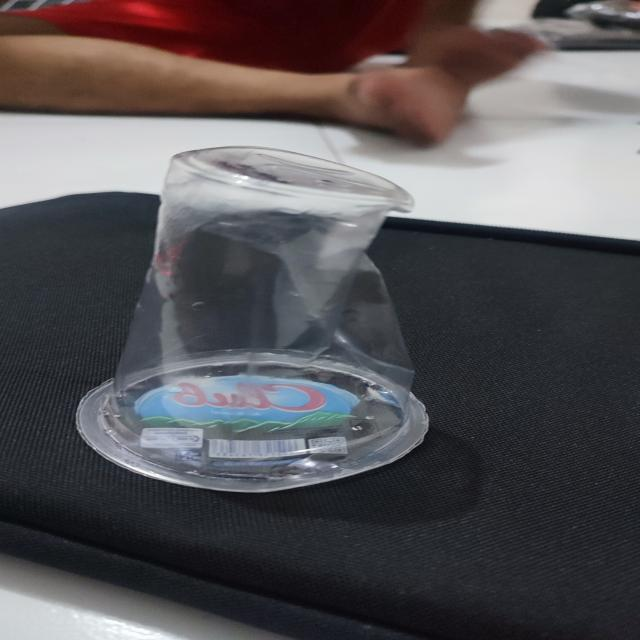air-gelas-rusak: (78, 144, 453, 501)
